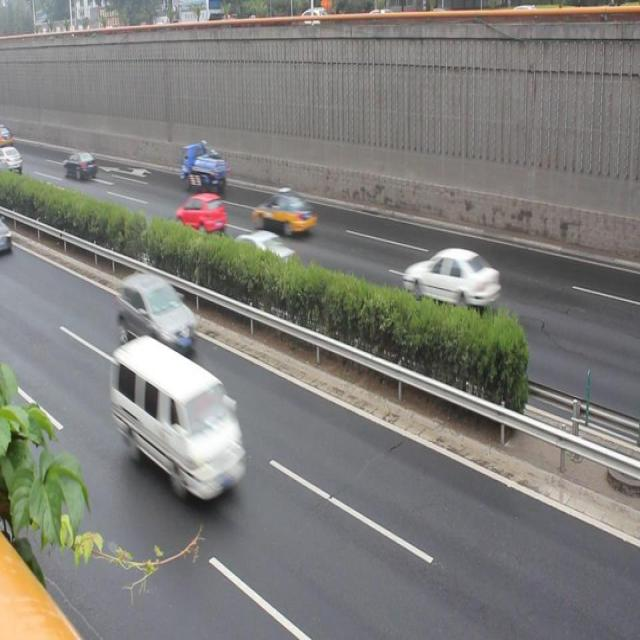bus: (178, 138, 226, 197)
car: (397, 232, 508, 321), (115, 263, 197, 356), (236, 220, 297, 286), (251, 182, 318, 238), (177, 187, 230, 247)
truck: (104, 334, 252, 496)
